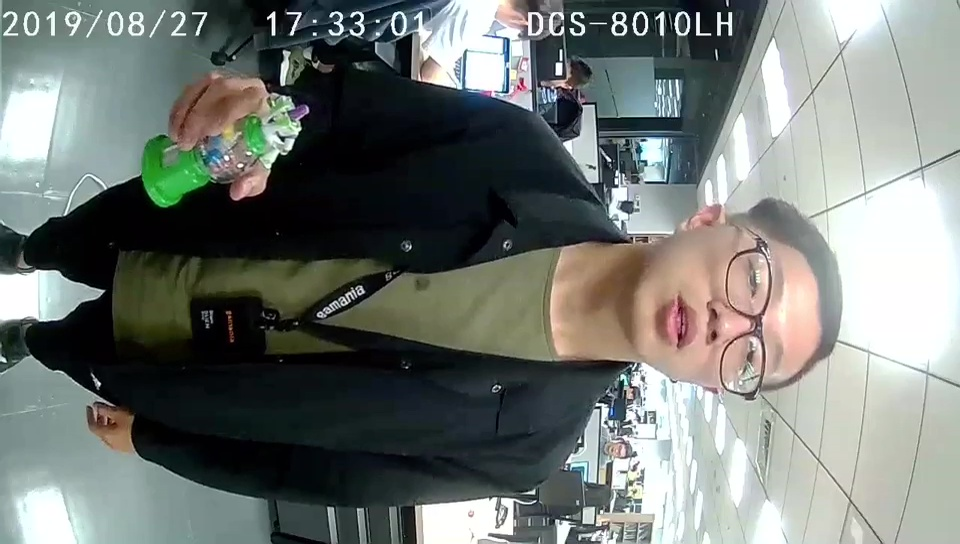buzz: (143, 89, 308, 211)
